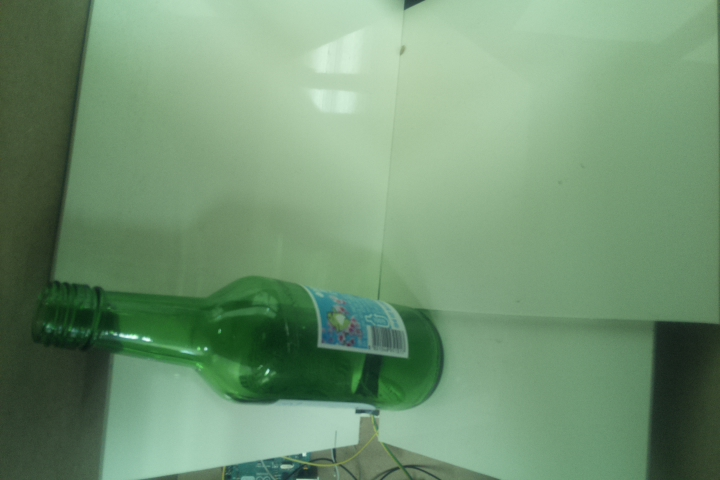soju: (32, 273, 445, 411)
